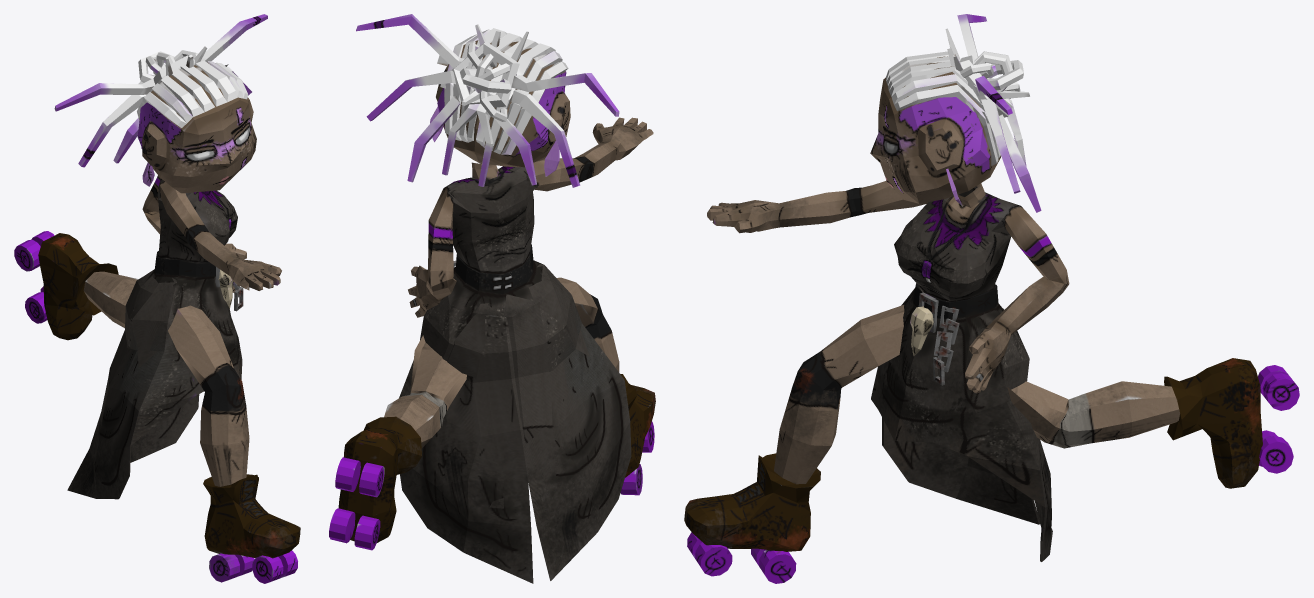
The model's file is bruja_000011.obj.
3 renders of one model, left to right at view 1: azimuth 30°, elevation 25°; view 2: azimuth 150°, elevation 25°; view 3: azimuth 270°, elevation 25°, orthographic. The views are drawn at different scales.
Visible parts, largest first — view 1: Bruja_Plane.001; view 2: Bruja_Plane.001; view 3: Bruja_Plane.001.
Part boxes in pixels (box(x1,y1,x2,y2)): Bruja_Plane.001: box(14, 14, 300, 583); Bruja_Plane.001: box(329, 14, 655, 583); Bruja_Plane.001: box(684, 14, 1299, 583).
Size of the model in its own units: 7.39 by 14.79 by 14.87.
